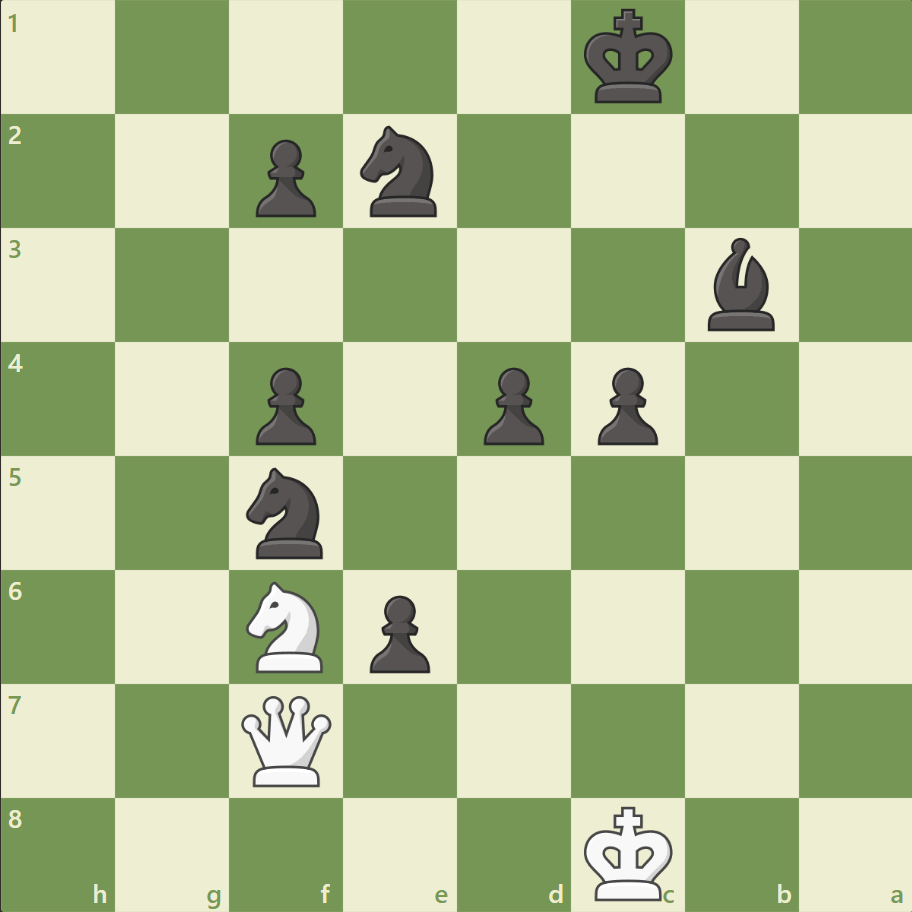K: (579, 798, 679, 906)
N: (238, 575, 335, 677)
Q: (237, 690, 336, 789)
b: (698, 233, 782, 336)
k: (579, 4, 679, 112)
n: (351, 121, 449, 223), (238, 461, 335, 564)
p: (474, 359, 549, 450), (247, 359, 322, 450), (247, 132, 322, 223), (361, 586, 435, 677), (588, 359, 662, 450)
